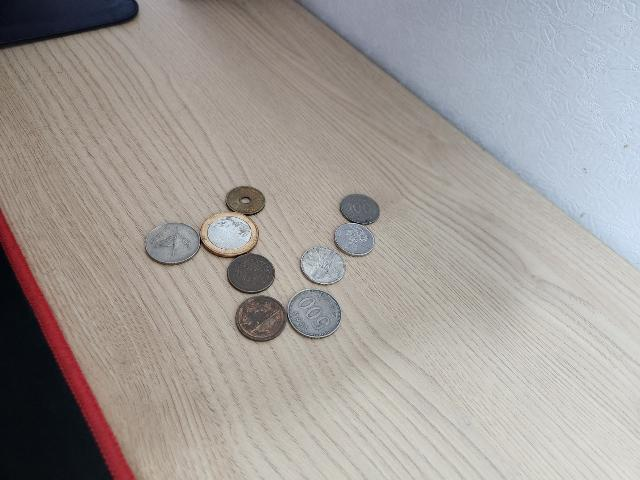coin: (285, 290, 341, 338), (200, 212, 258, 257), (230, 299, 290, 341), (144, 220, 200, 264), (227, 250, 273, 296), (298, 248, 346, 284), (334, 220, 376, 256), (338, 193, 379, 225), (226, 187, 268, 215)
